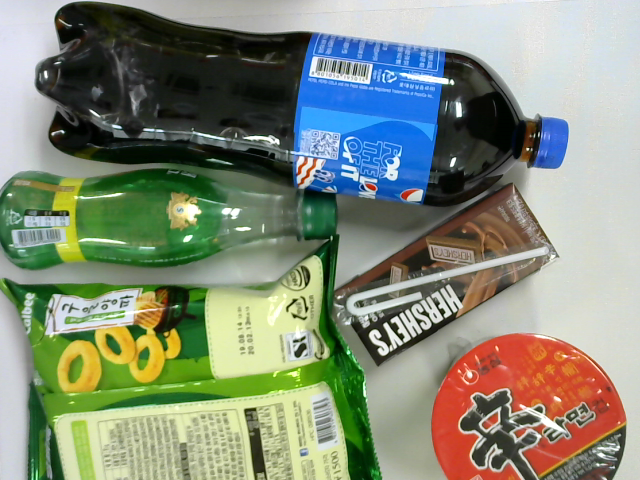Grilled_Onions: (2, 232, 385, 480)
Hush_Choco_Drink: (328, 180, 563, 367)
Pepsi_Cola_1.5L: (32, 4, 571, 209)
Seagram_Lemon_Carbonated_Water: (1, 167, 341, 271)
Sinramen_small: (428, 332, 626, 480)
